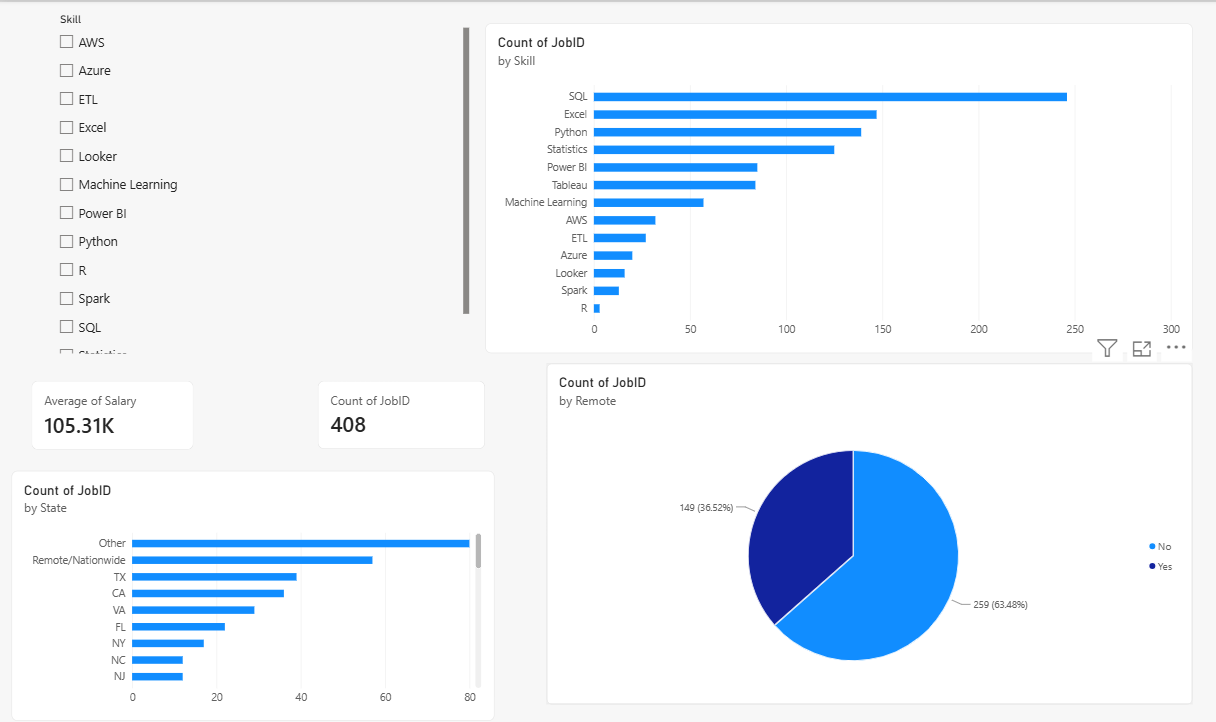

What the dashboard file says about the page in this screenshot:
{"tool":"powerbi","page":{"name":"Page 1","canvas":[1920,1080],"ordinal":0},"visuals":[{"type":"slicer","fields":{"Values":["powerbi_skills.Skill"]},"box":[36.7,28.3,446.7,453.3],"z":0},{"type":"clusteredBarChart","fields":{"Category":["powerbi_skills.Skill"],"Y":["CountNonNull(powerbi_skills.JobID)"]},"box":[620,30,703.3,440],"z":1},{"type":"cardVisual","fields":{"Data":["Avg(powerbi_postings.Salary)"]},"box":[73.3,505,216.7,92.2],"z":2},{"type":"cardVisual","fields":{"Data":["CountNonNull(powerbi_postings.JobID)"]},"box":[338.3,503.3,223.3,91.7],"z":3},{"type":"clusteredBarChart","fields":{"Category":["powerbi_postings.State"],"Y":["CountNonNull(powerbi_postings.JobID)"]},"box":[16.7,625,643.8,333.8],"z":4},{"type":"pieChart","fields":{"Category":["powerbi_postings.Remote"],"Y":["CountNonNull(powerbi_postings.JobID)"]},"box":[728.3,503.3,595,455],"z":5}]}

Visuals, with their boxes on the page's 1920x1080 design canvas (x1, y1, x2, y2). These are canvas units, not pixel positions in the 1216x722 screenshot, which may show the page scaled, cropped or inside an application window:
slicer - powerbi_skills.Skill: <region>37, 28, 483, 482</region>
clusteredBarChart - powerbi_skills.Skill x CountNonNull(powerbi_skills.JobID): <region>620, 30, 1323, 470</region>
cardVisual - Avg(powerbi_postings.Salary): <region>73, 505, 290, 597</region>
cardVisual - CountNonNull(powerbi_postings.JobID): <region>338, 503, 562, 595</region>
clusteredBarChart - powerbi_postings.State x CountNonNull(powerbi_postings.JobID): <region>17, 625, 660, 959</region>
pieChart - powerbi_postings.Remote x CountNonNull(powerbi_postings.JobID): <region>728, 503, 1323, 958</region>
